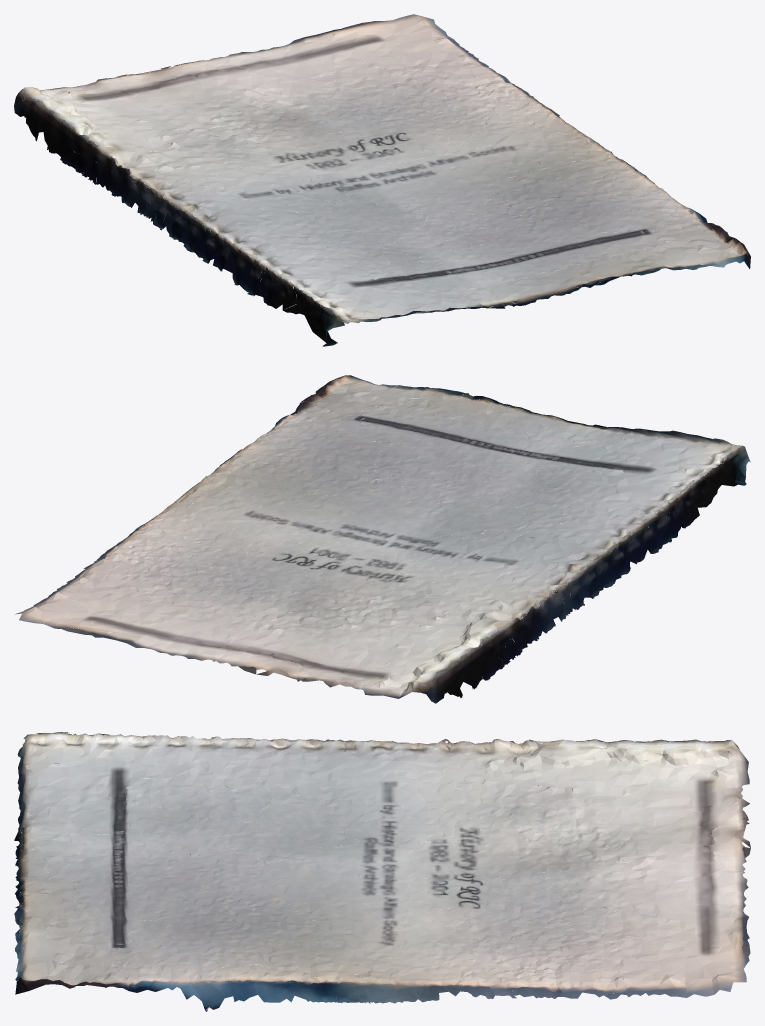
File: history of RJC (drkoh edited).glb
3 renders of one model, top to bottom at view 1: azimuth 30°, elevation 25°; view 2: azimuth 150°, elevation 25°; view 3: azimuth 270°, elevation 25°, orthographic. The views are drawn at different scales.
Parts seen in each view (by area): view 1: mesh; view 2: mesh; view 3: mesh.
Boxes of the visible parts, bbox=[...] form: mesh: bbox=[14, 14, 750, 346]; mesh: bbox=[15, 375, 750, 703]; mesh: bbox=[14, 732, 750, 1011].
Size of the model in its own units: 0.2137 by 0.0258 by 0.2933.
1 material, 1 textured.
